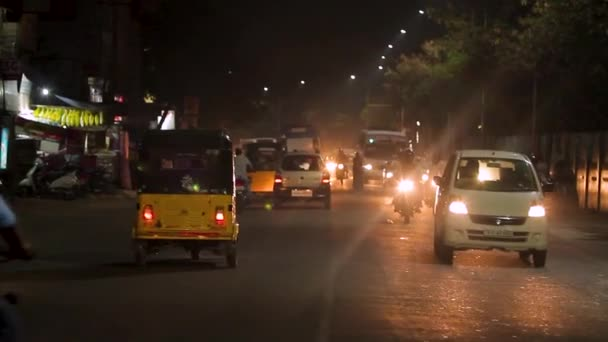bike: (397, 154, 417, 223), (336, 148, 348, 188)
bus: (361, 127, 407, 187), (281, 125, 322, 178)
car: (434, 150, 543, 267), (274, 152, 330, 210)
rickshaw: (135, 135, 237, 267), (242, 141, 280, 202)
